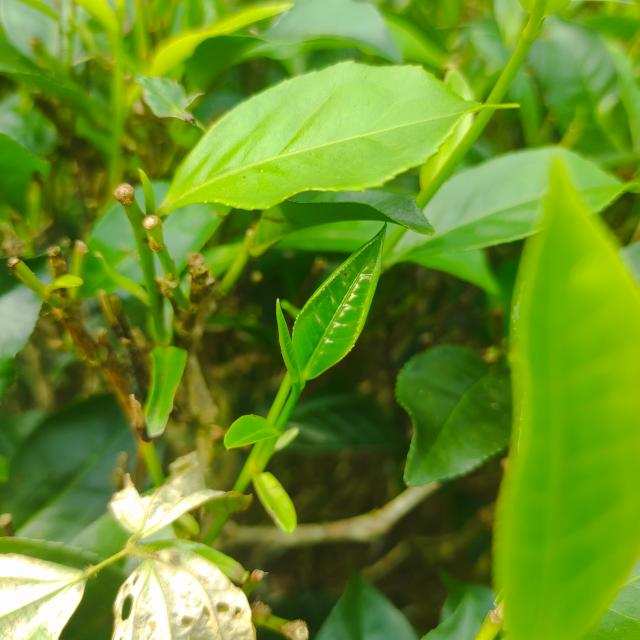unopened_leaf: (268, 296, 310, 391)
